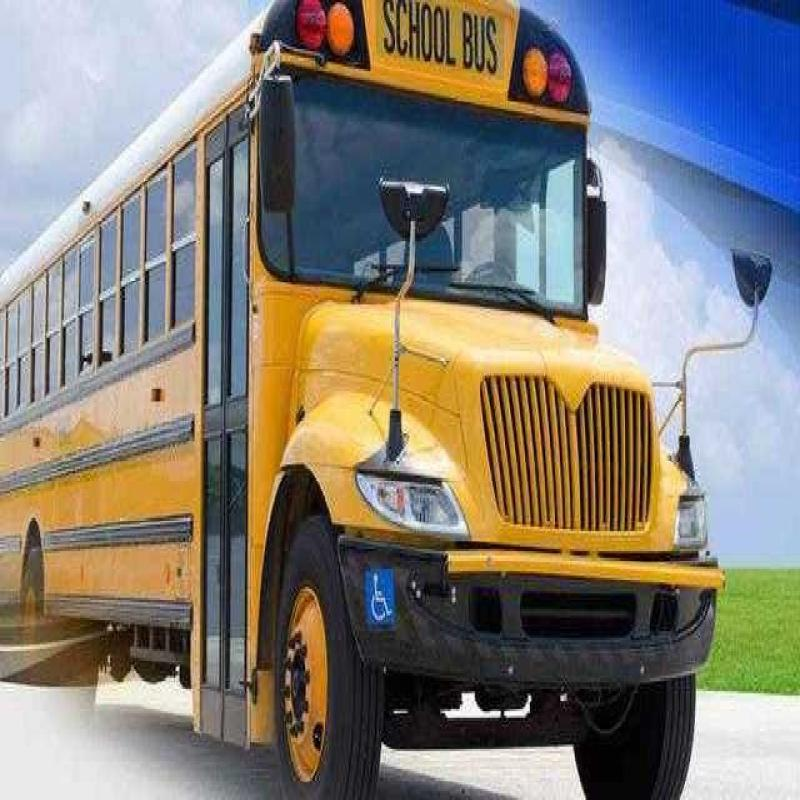bus: (10, 17, 733, 800)
